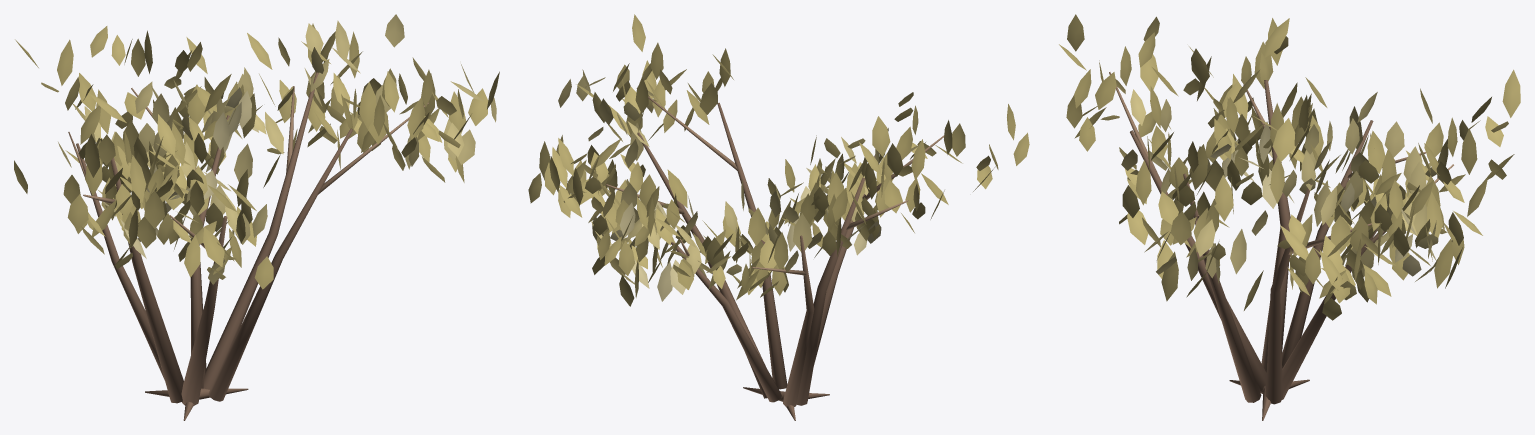
The model's file is bush_3d_05_yellow.glb.
3 renders of one model, left to right at view 1: azimuth 30°, elevation 25°; view 2: azimuth 150°, elevation 25°; view 3: azimuth 270°, elevation 25°, orthographic. The views are drawn at different scales.
Visible parts, largest first — view 1: bush_3d_05_yellow_foliage, bush_3d_05_yellow_wood; view 2: bush_3d_05_yellow_foliage, bush_3d_05_yellow_wood; view 3: bush_3d_05_yellow_foliage, bush_3d_05_yellow_wood.
Boxes of the visible parts, box(x1,y1,x2,y2) form: bush_3d_05_yellow_foliage: box(14, 14, 499, 289); bush_3d_05_yellow_wood: box(68, 72, 428, 420); bush_3d_05_yellow_foliage: box(528, 14, 1029, 306); bush_3d_05_yellow_wood: box(606, 88, 944, 420); bush_3d_05_yellow_foliage: box(1059, 14, 1520, 320); bush_3d_05_yellow_wood: box(1109, 72, 1453, 420).
Bounding box in the file's own units: 2.58 × 1.79 × 2.25.
